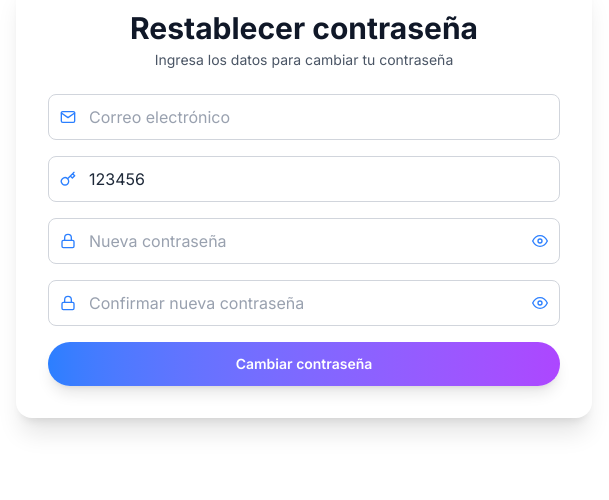
Test: ResetPasswordForm › muestra errores de validación si se envía vacío
Click the button "Cambiar contraseña": (304, 364) [48,342,560,386]
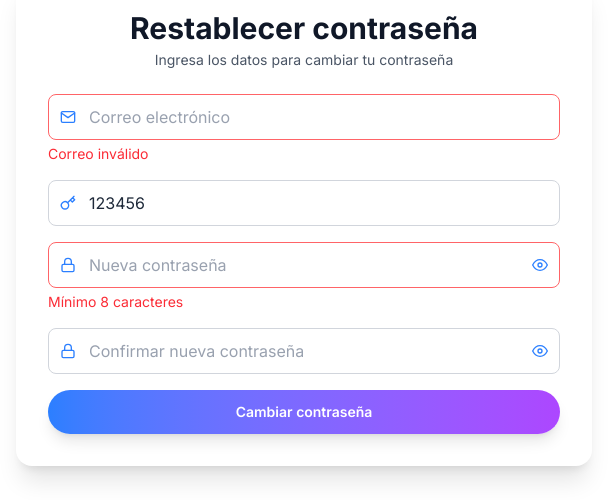
Now the text "Correo inválido" is shown, box [48,145,148,162]
Now the text "Mínimo 8 caracteres" is shown, box [48,293,183,310]
